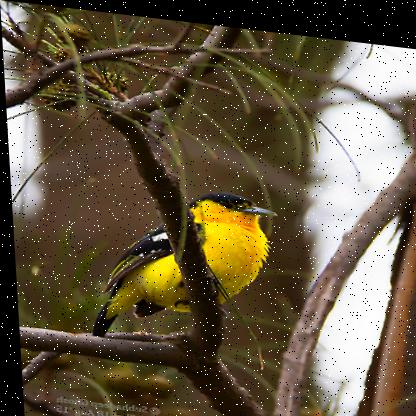Burung: (83, 174, 283, 352)
